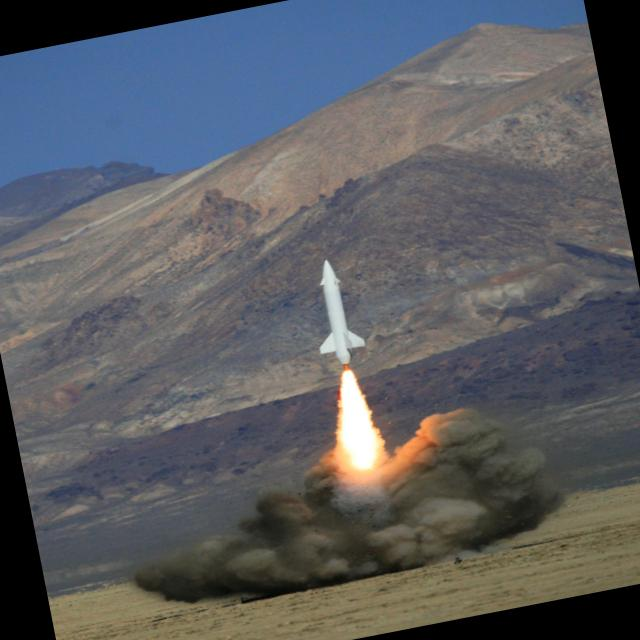rocket: (295, 246, 388, 444)
